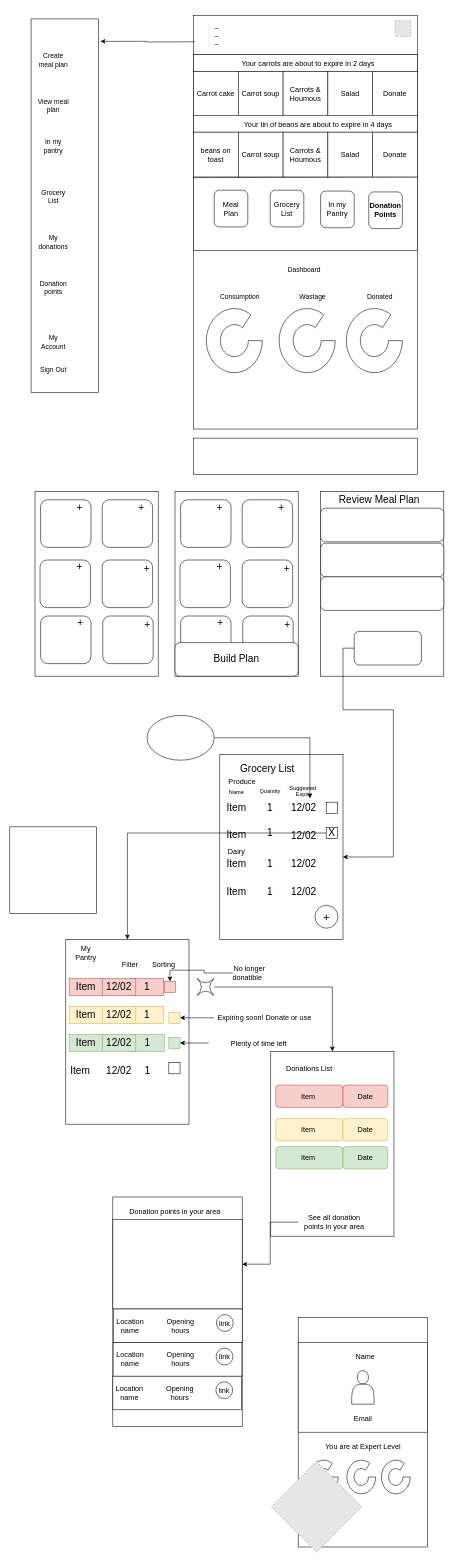
The diagram is 454 pixels wide and 1562 high, and some of its shapes have lost their labels. Grey dashed boxes stand in for pictures. Here are the shapes that lost their labels. From the top down, the centre of each, then its label:
At pixel 305 456: "Random changing fact about food wastage".
At pixel 387 648: "Complete".
At pixel 180 737: "On click is editable".
At pixel 53 870: "Recipe Category".
At pixel 177 1264: "Map with food banks points".
